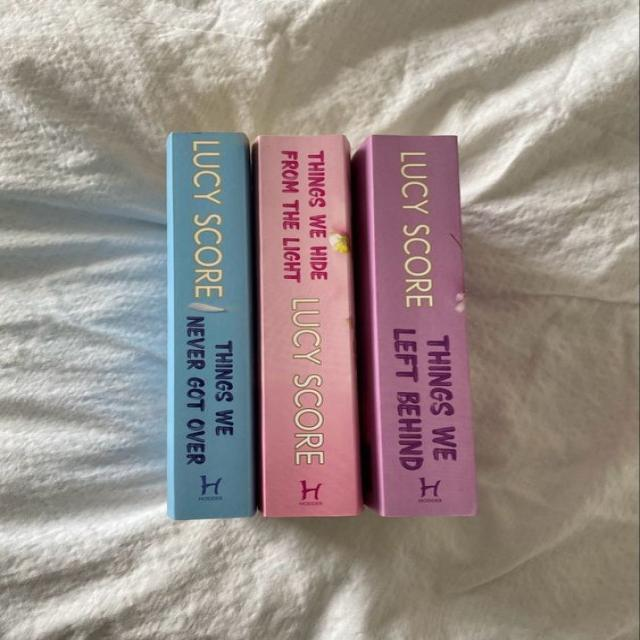book: (362, 132, 474, 515), (255, 134, 359, 514), (168, 135, 255, 514)
